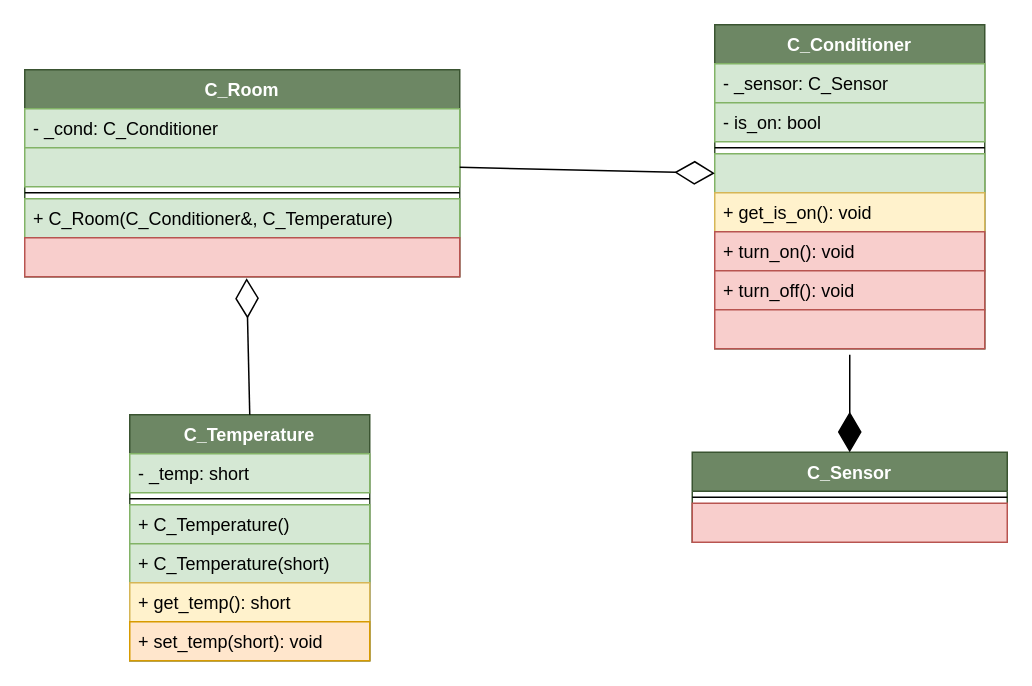
The diagram is 1032 pixels wide and 686 high, and some of its shapes have lost their labels. The centre of each missing label's shape, as x and y in pixels:
"+ C_Conditioner(C_Sensor&)" belongs at (x=849, y=172).
"+ conditioner_on(): void" belongs at (x=241, y=256).
"+ get_temp(C_Temperature): short" belongs at (x=849, y=522).
"+ to_work(C_Room&): void" belongs at (x=849, y=328).
"- _temp: C_Temperature" belongs at (x=241, y=166).
